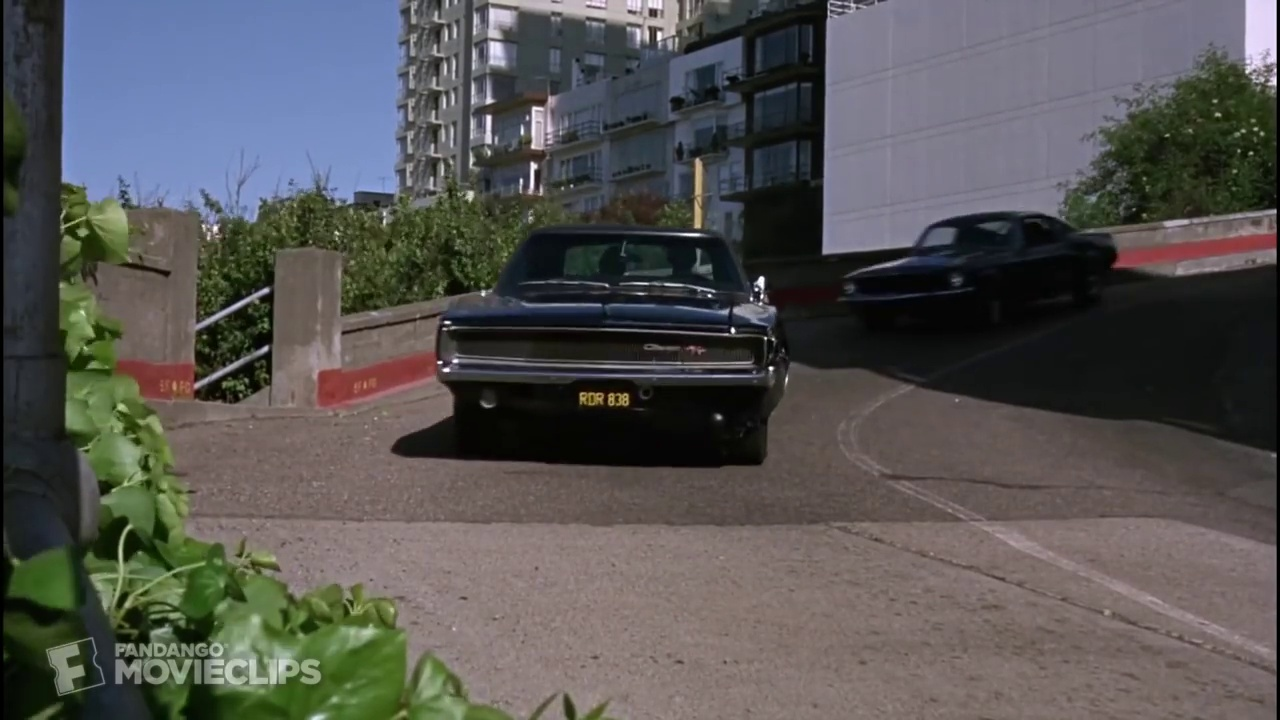car: (424, 219, 799, 468), (829, 201, 1124, 349)
